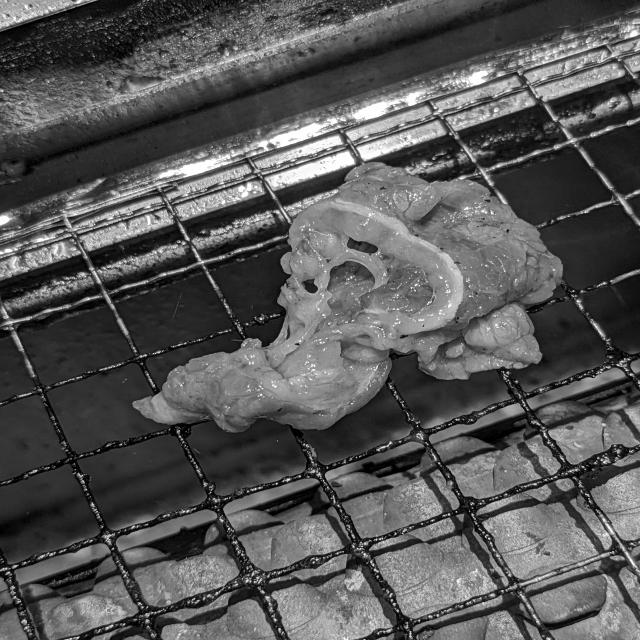OK undercooked beef,: (116, 157, 588, 442)
